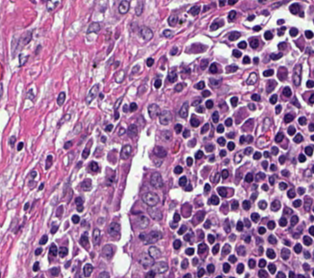nucleus: (86, 84, 99, 103), (142, 192, 158, 206), (108, 222, 120, 239), (145, 231, 161, 243), (150, 172, 162, 187), (147, 207, 162, 219), (139, 26, 152, 39), (148, 104, 160, 118), (159, 111, 171, 124), (192, 211, 204, 224), (120, 145, 131, 159), (46, 0, 59, 11), (118, 0, 129, 13), (87, 22, 100, 33), (153, 146, 166, 157), (181, 203, 191, 217), (179, 102, 188, 117), (137, 215, 148, 227), (210, 20, 223, 30), (277, 67, 287, 80), (266, 79, 276, 92), (92, 228, 100, 244), (79, 233, 88, 247), (127, 124, 137, 136), (22, 31, 31, 44), (168, 69, 177, 82), (135, 1, 143, 15), (247, 73, 257, 84), (58, 114, 69, 124), (81, 179, 91, 190), (115, 70, 124, 82), (57, 92, 65, 105), (114, 97, 122, 110), (168, 15, 177, 26), (190, 115, 199, 126), (243, 119, 252, 130), (45, 155, 52, 169), (228, 32, 240, 40), (189, 6, 199, 15), (249, 38, 258, 48), (162, 130, 171, 140), (89, 161, 98, 171), (208, 195, 218, 204), (271, 200, 280, 210), (19, 54, 27, 65), (234, 152, 242, 163), (225, 65, 237, 72), (211, 173, 220, 182), (217, 187, 226, 196), (209, 63, 217, 73), (209, 79, 220, 86), (163, 29, 172, 37), (270, 53, 282, 59), (195, 81, 204, 89), (256, 172, 265, 180), (242, 200, 250, 209), (258, 200, 266, 209), (178, 225, 186, 234), (39, 235, 47, 244), (263, 69, 273, 76), (26, 89, 33, 99), (201, 123, 208, 133), (275, 132, 282, 142), (82, 148, 89, 158), (179, 176, 186, 186), (173, 212, 180, 222), (212, 111, 218, 122), (56, 206, 62, 217), (264, 31, 272, 39), (175, 83, 183, 91), (217, 137, 225, 145), (268, 235, 276, 243), (228, 11, 235, 20), (278, 26, 285, 35), (232, 50, 241, 57), (154, 79, 161, 88), (251, 94, 260, 101), (230, 97, 237, 106), (129, 102, 136, 111), (174, 124, 181, 133), (221, 169, 228, 178), (245, 173, 252, 182), (231, 200, 238, 209), (173, 240, 180, 249), (9, 136, 15, 146), (224, 220, 229, 232), (238, 41, 246, 48), (278, 42, 286, 49), (170, 47, 177, 55), (146, 58, 153, 66), (200, 60, 207, 68), (192, 98, 200, 105), (188, 138, 195, 146), (227, 142, 234, 150), (206, 144, 214, 151), (244, 147, 252, 154), (195, 150, 202, 158), (253, 152, 261, 159), (174, 166, 182, 173), (29, 170, 36, 178), (251, 213, 258, 221), (72, 215, 79, 223), (204, 184, 210, 193), (244, 218, 250, 227), (236, 221, 242, 230), (208, 234, 214, 243), (248, 103, 255, 110), (105, 124, 112, 131), (64, 141, 71, 148), (75, 197, 82, 204), (258, 227, 265, 234), (139, 234, 146, 241), (132, 65, 138, 73), (202, 90, 210, 96), (270, 95, 276, 103), (206, 100, 212, 108), (275, 105, 281, 113), (217, 124, 223, 132), (118, 127, 124, 135), (183, 129, 189, 137), (272, 146, 278, 154), (186, 157, 192, 165), (204, 220, 210, 228), (268, 221, 274, 229), (198, 230, 203, 239), (243, 56, 249, 63), (196, 106, 203, 112), (225, 118, 231, 125), (227, 132, 234, 138), (246, 135, 252, 142), (185, 184, 191, 191), (251, 192, 257, 199), (170, 221, 176, 228), (51, 226, 57, 233), (240, 135, 245, 143), (17, 142, 22, 150), (279, 155, 284, 163), (262, 161, 267, 169), (269, 176, 274, 184), (262, 184, 268, 190), (184, 234, 190, 240), (247, 15, 254, 20), (253, 25, 260, 30), (114, 111, 118, 119), (219, 1, 225, 6), (277, 19, 283, 24), (253, 57, 258, 63), (220, 150, 225, 156), (264, 151, 269, 157), (270, 164, 275, 170), (77, 205, 82, 211), (245, 236, 250, 242), (0, 83, 2, 96), (209, 156, 214, 161), (229, 235, 234, 240), (123, 105, 127, 111), (39, 183, 43, 189), (24, 203, 28, 209), (228, 1, 235, 4), (99, 93, 103, 98), (77, 162, 80, 168), (263, 11, 268, 14)
